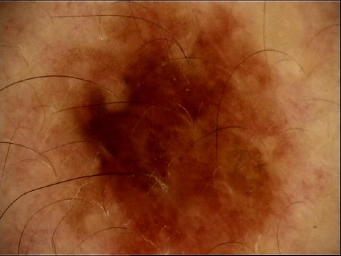melanoma: (72, 30, 269, 243)
